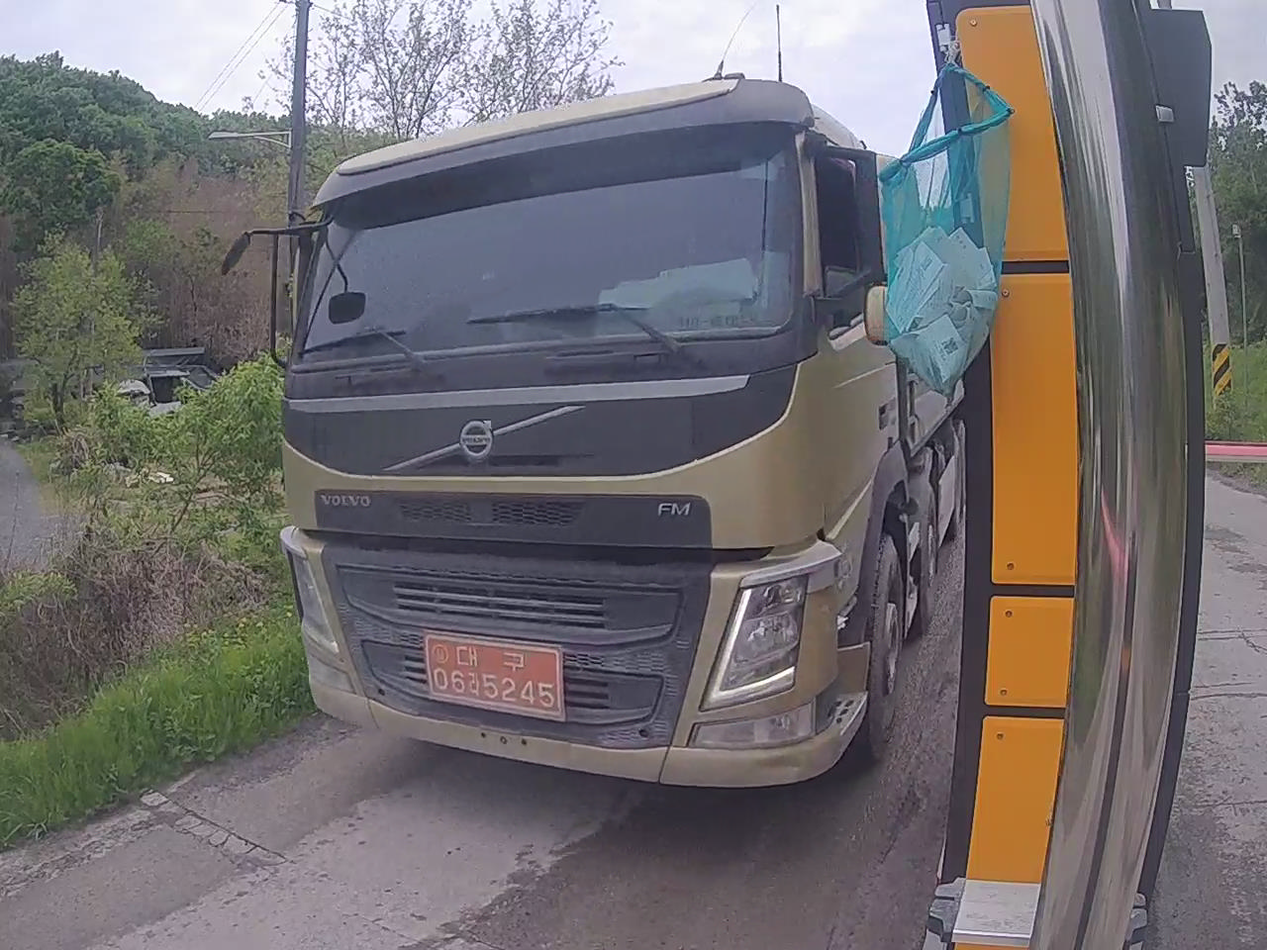license_plate: (426, 635, 564, 720)
truck: (225, 76, 963, 785)
